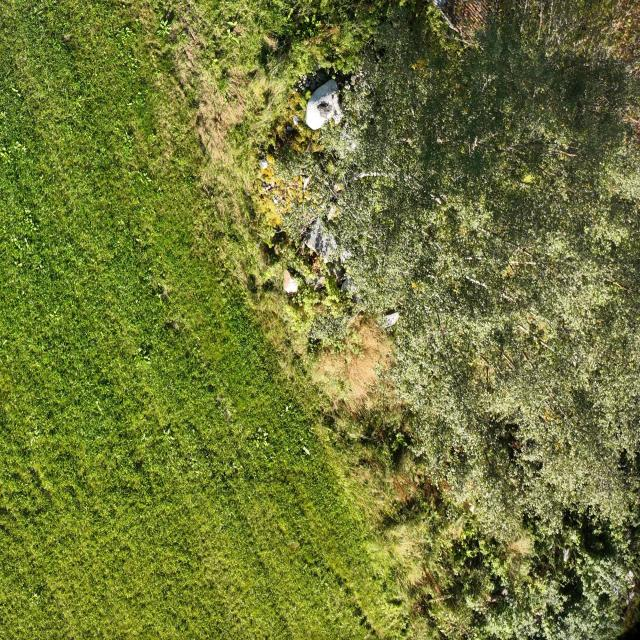rumex: (36, 296, 64, 330), (129, 340, 155, 374), (0, 138, 31, 164), (110, 126, 138, 154), (245, 428, 273, 454), (112, 22, 136, 44), (156, 16, 174, 42), (27, 425, 43, 450), (0, 107, 12, 128)
